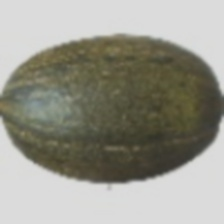honeydew: (6, 53, 186, 204)
